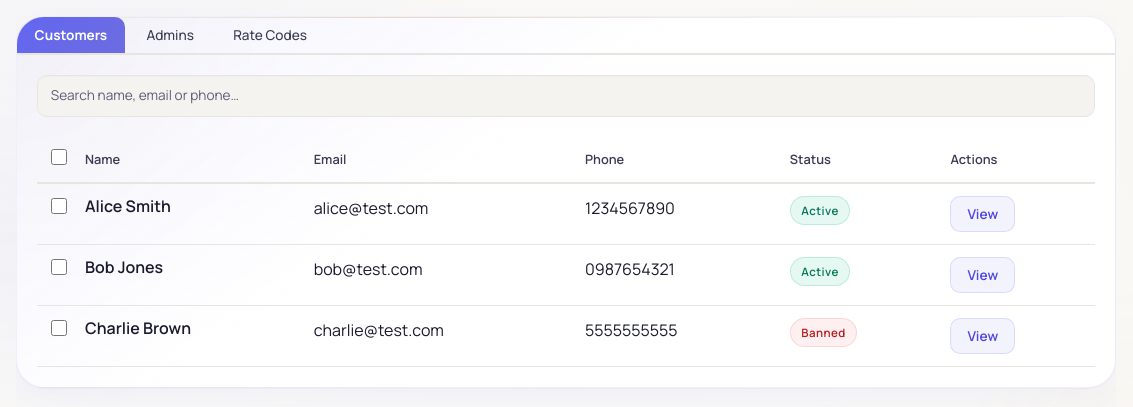
it: AdminUsersConfig Page › switches to Rate Codes tab and shows rate codes
Check: the text "Alice Smith" is shown, box x1=85 y1=195 x2=171 y2=217
Click the button "Rate Codes" at (270, 35), box x1=216 y1=17 x2=324 y2=53
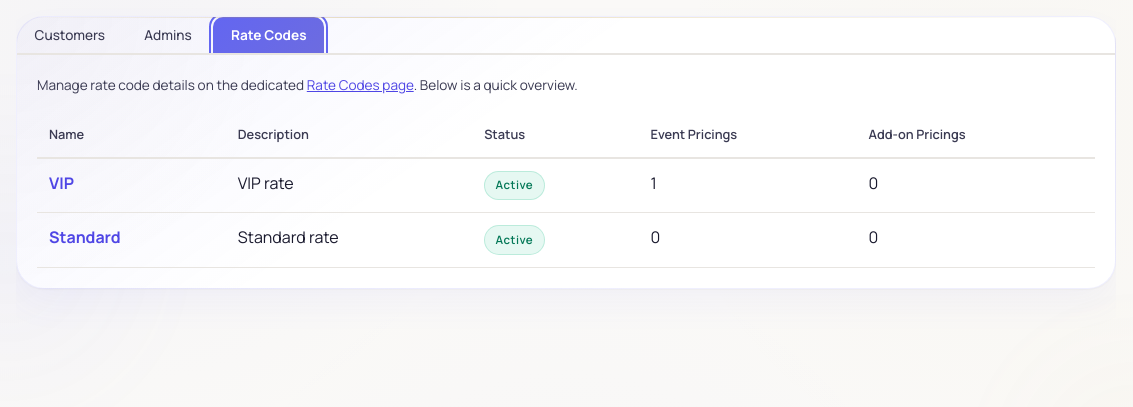
Check: the text "VIP" is shown, box x1=49 y1=172 x2=74 y2=194
Check: the text "Standard" is shown, box x1=49 y1=226 x2=121 y2=248
